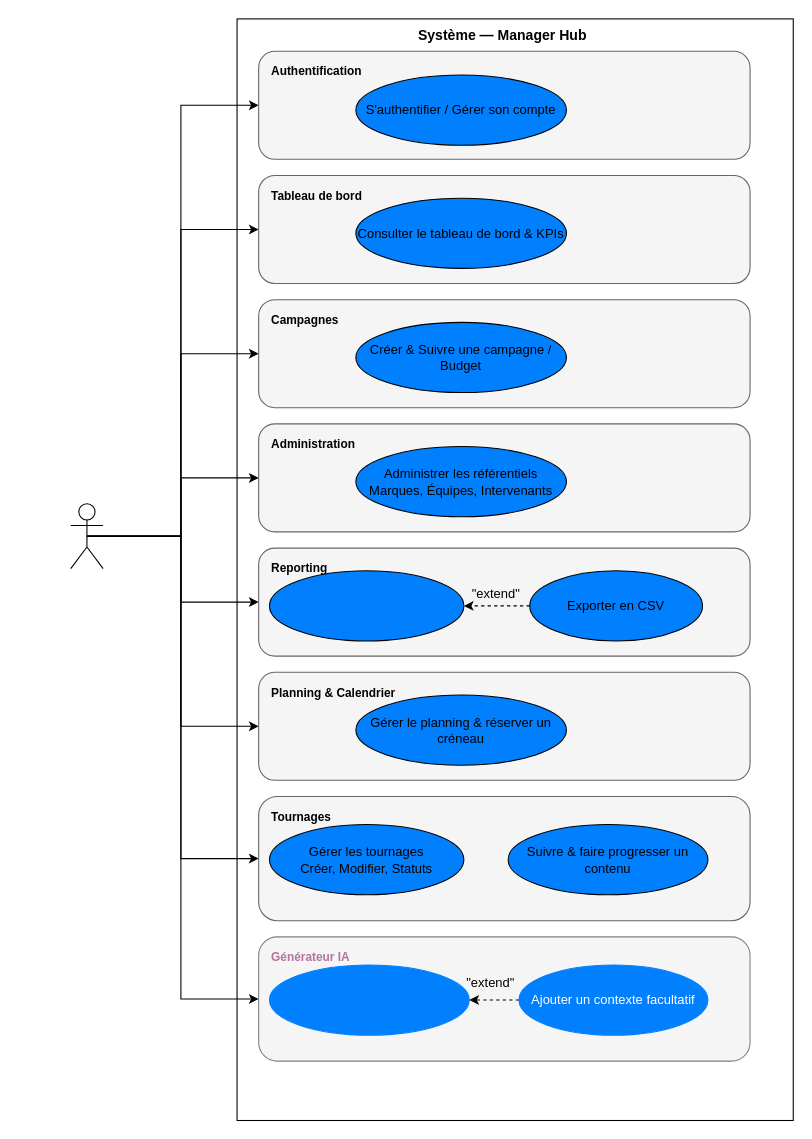
The diagram is 812 pixels wide and 1139 high, and some of its shapes have lost their labels. The shapes that lost their labels are listed below. From the top down, each one's centre as x and y in pixels, then its label:
At [86,536]: "Responsable Marketing / Assistante".
At [366,605]: "Générer des rapports d'activité".
At [368,999]: "Générer des scripts & descriptions par IA".
